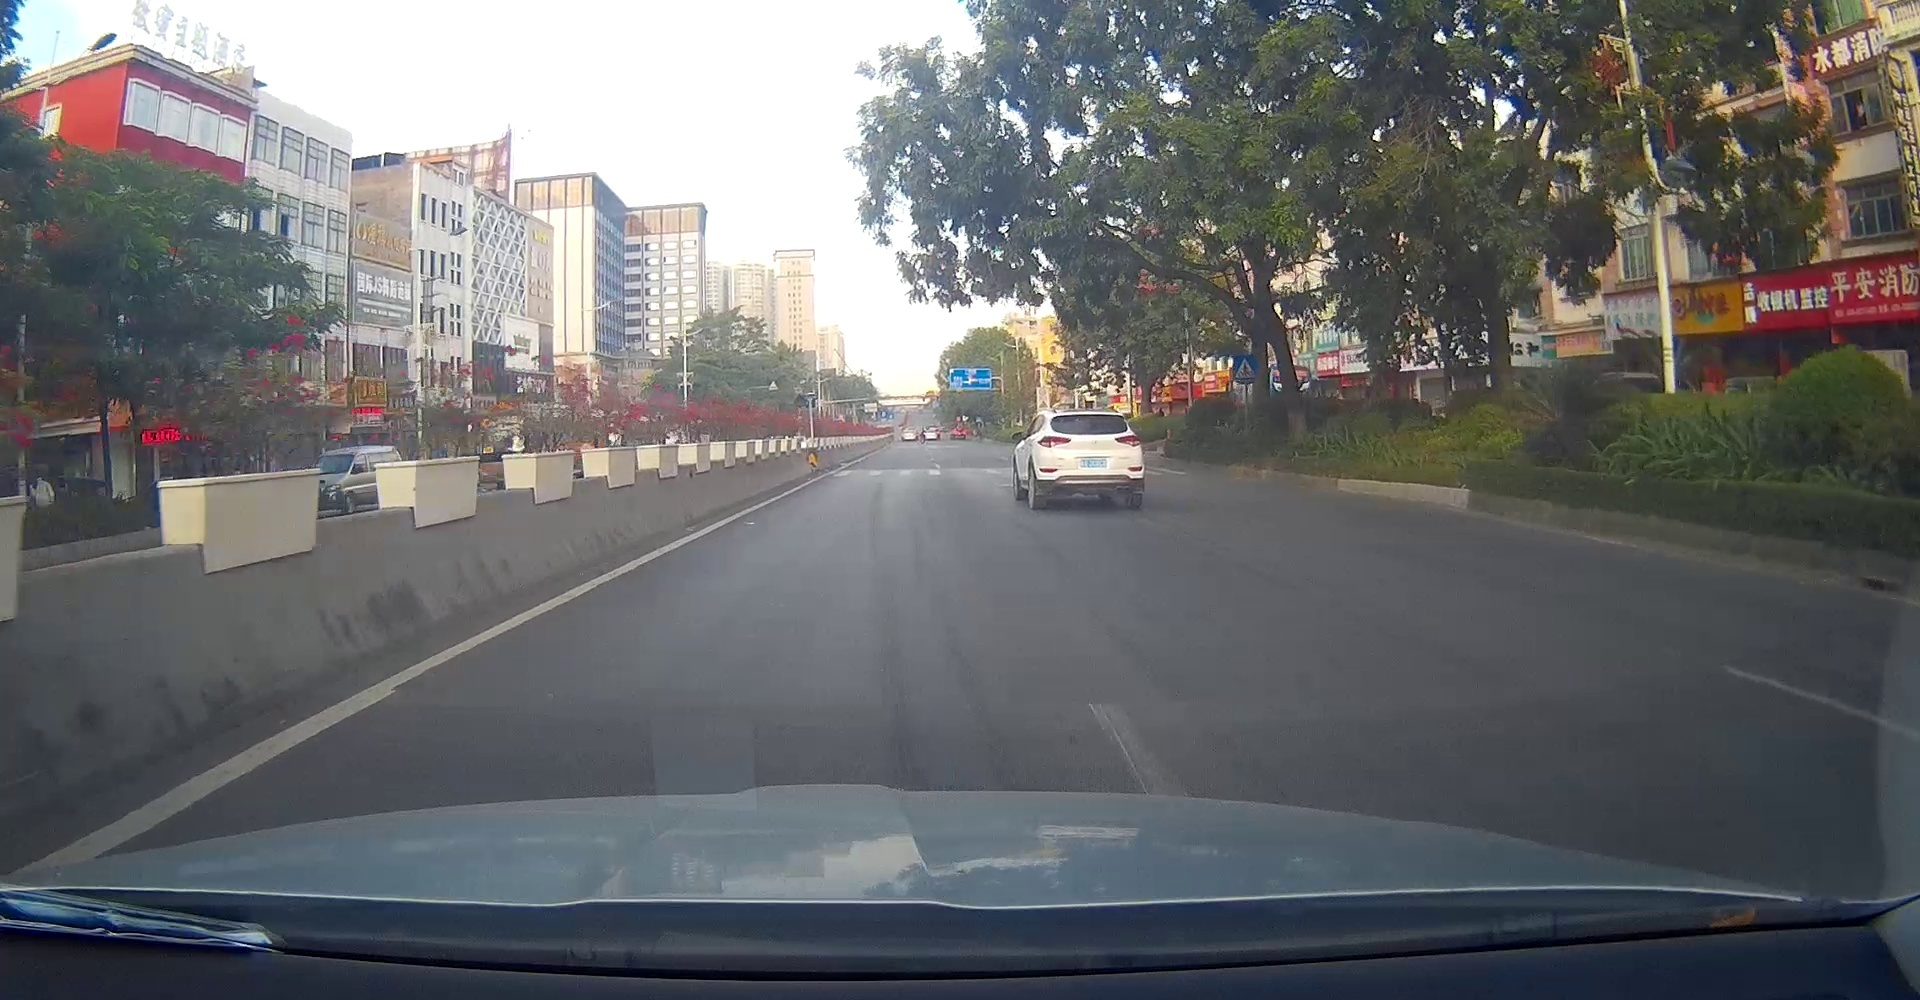L_light: (1037, 435, 1070, 448)
R_light: (1115, 434, 1142, 447)
T_light: (1081, 415, 1097, 418)
day-no: (1032, 409, 1144, 510)
